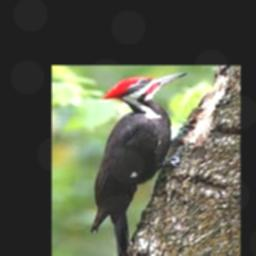Woodpecker: (91, 72, 189, 256)
